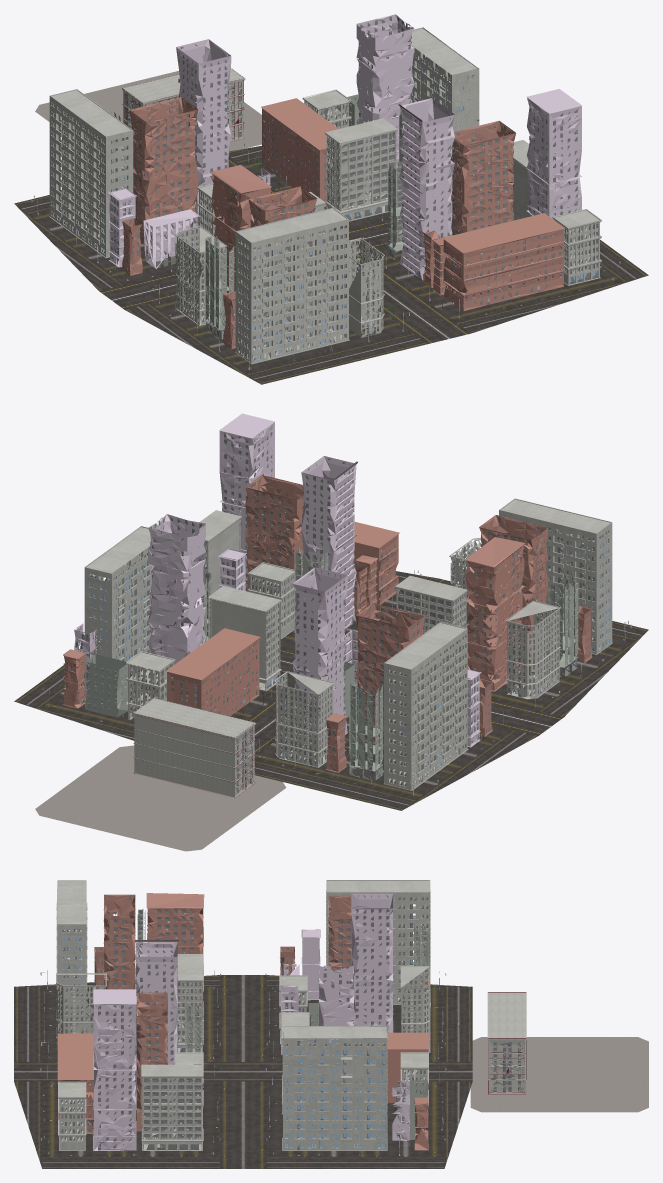
File: skyline.glb
3 views of the same model, one above another, from view 1: azimuth 30°, elevation 25°; view 2: azimuth 150°, elevation 25°; view 3: azimuth 270°, elevation 25° (orthographic). The views are drawn at different scales.
Parts seen in each view (by area): view 1: WRAP; view 2: WRAP; view 3: WRAP.
Part boxes in pixels (x1,y1,x2,y2): WRAP: [14, 14, 648, 384]; WRAP: [14, 413, 648, 851]; WRAP: [14, 880, 648, 1168].
Size of the model in its own units: 3756 by 1351 by 5200.
17 materials, 2 textured.
